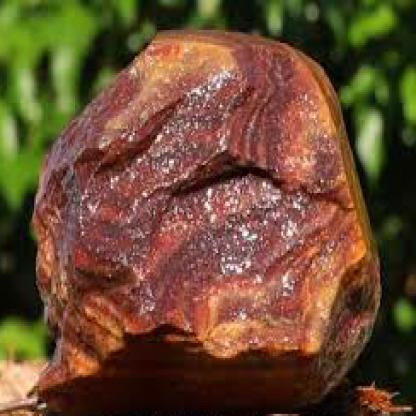Metamorphic_Quartize: (24, 13, 390, 414)
